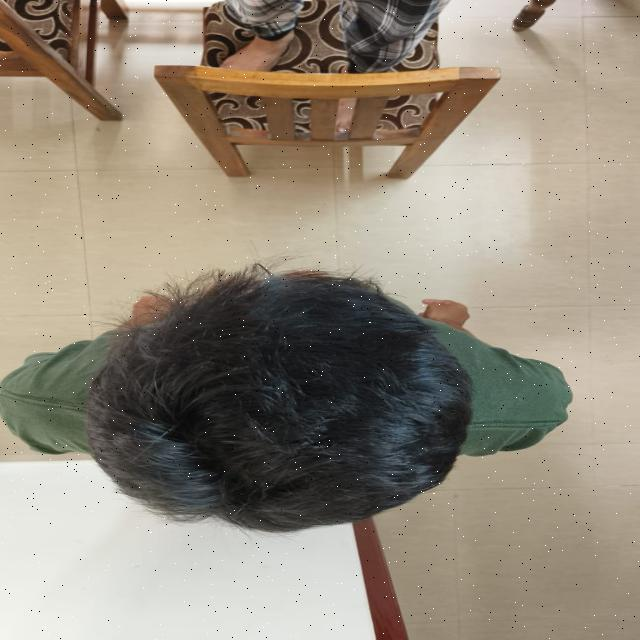humans: (0, 252, 581, 540)
